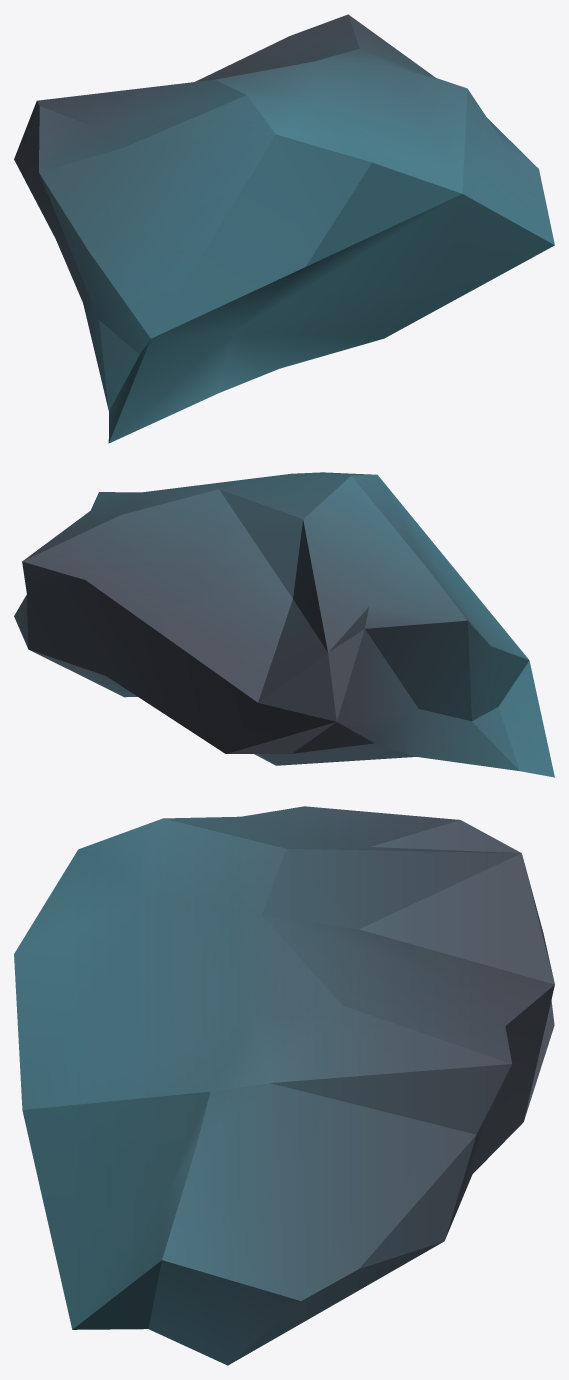
Rendered from Stone_1d.fbx.
3 views of the same model, one above another, from view 1: azimuth 30°, elevation 25°; view 2: azimuth 150°, elevation 25°; view 3: azimuth 270°, elevation 25° (orthographic). The views are drawn at different scales.
Visible parts, largest first — view 1: Stone_1d; view 2: Stone_1d; view 3: Stone_1d.
Boxes of the visible parts, left/top/right/bottom form: Stone_1d: left=14, top=14, right=554, bottom=443; Stone_1d: left=14, top=472, right=554, bottom=777; Stone_1d: left=14, top=806, right=554, bottom=1365.
Size of the model in its own units: 17.02 by 9.96 by 11.21.
